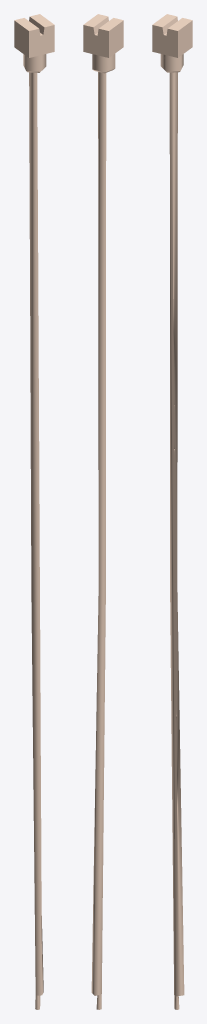
Rendered from Ressort fil Marteaux Q.dessous_Heures.obj.
3 renders of one model, left to right at view 1: azimuth 30°, elevation 25°; view 2: azimuth 150°, elevation 25°; view 3: azimuth 330°, elevation 25°, orthographic.
Parts seen in each view (by area): view 1: Face_3, Face_10, Face_9, Face_7, Face_13, Face_1; view 2: Face_3, Face_12, Face_9, Face_7, Face_13, Face_1; view 3: Face_3, Face_10, Face_11, Face_7, Face_1, Face_13.
Part boxes in pixels (x1,y1,x2,y2): Face_3: [29, 72, 43, 995]; Face_10: [29, 25, 54, 57]; Face_9: [14, 20, 28, 57]; Face_7: [23, 54, 46, 71]; Face_13: [30, 14, 54, 27]; Face_1: [14, 18, 38, 30]; Face_3: [91, 72, 106, 995]; Face_12: [83, 25, 108, 57]; Face_9: [109, 20, 123, 57]; Face_7: [92, 54, 115, 72]; Face_13: [83, 14, 107, 27]; Face_1: [99, 18, 123, 30]; Face_3: [169, 72, 184, 996]; Face_10: [152, 25, 177, 57]; Face_11: [178, 20, 192, 57]; Face_7: [160, 54, 183, 71]; Face_1: [152, 14, 176, 27]; Face_13: [168, 18, 192, 30].
Bounding box in the file's own units: 0.0055 × 0.2015 × 0.0055.
